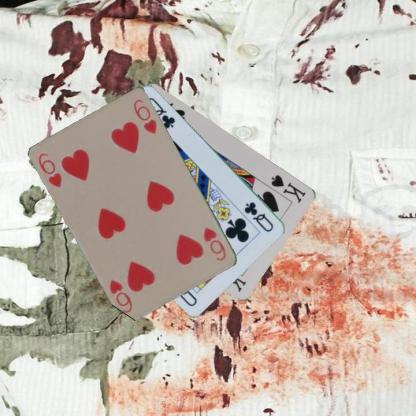6h: (36, 150, 63, 190), (201, 224, 228, 262)
Ks: (269, 172, 308, 204)
Qc: (242, 199, 275, 233)
